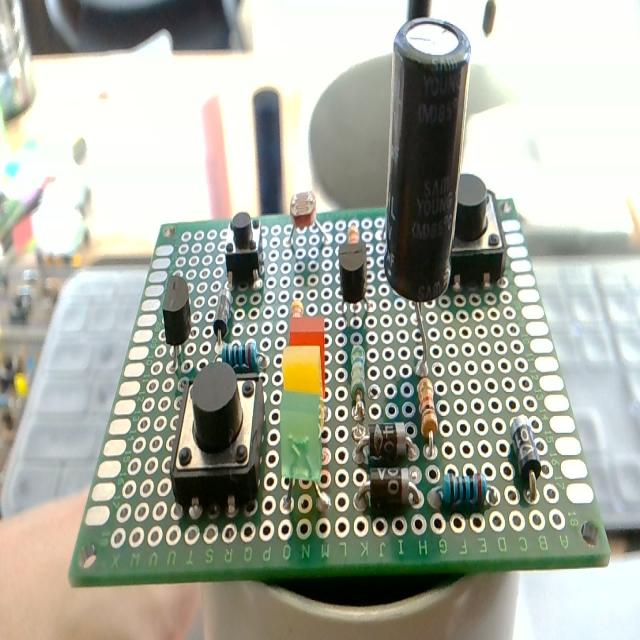Electrolytic capacitor: (383, 11, 471, 378)
cds: (284, 190, 332, 247)
diode: (506, 402, 544, 516), (351, 412, 422, 469), (353, 464, 421, 523), (211, 278, 237, 348)
led: (278, 388, 338, 538)
resistor: (416, 468, 499, 514), (412, 367, 446, 444), (218, 329, 268, 378), (347, 333, 373, 412)
switch: (170, 356, 270, 534), (218, 198, 268, 292)
transistor: (326, 232, 382, 318), (154, 269, 201, 369)
